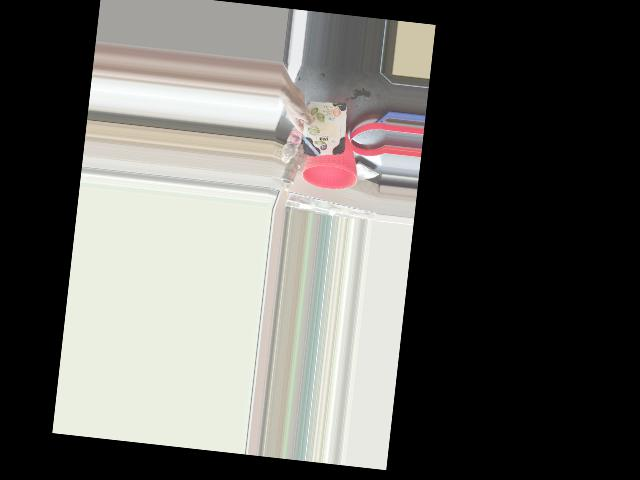cheese: (289, 102, 349, 160)
